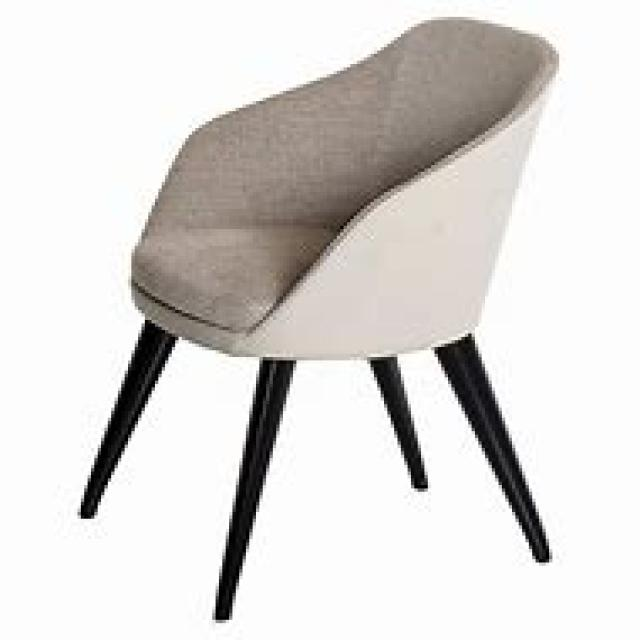chair: (78, 13, 559, 620)
